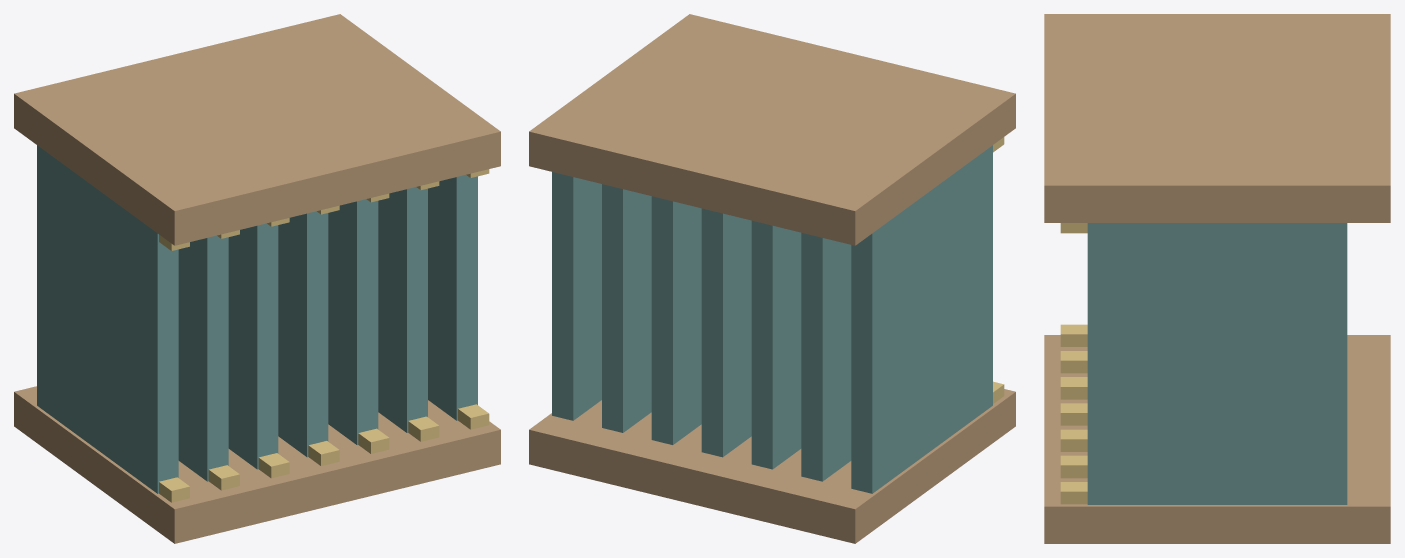
Rendered from WindBrakeGrille.glb.
3 renders of one model, left to right at view 1: azimuth 30°, elevation 25°; view 2: azimuth 150°, elevation 25°; view 3: azimuth 270°, elevation 25°, orthographic. The views are drawn at different scales.
Parts seen in each view (by area): view 1: WindBrakeGrille; view 2: WindBrakeGrille; view 3: WindBrakeGrille.
Boxes of the visible parts, x1=… form: WindBrakeGrille: x1=14, y1=14, x2=500, y2=543; WindBrakeGrille: x1=529, y1=14, x2=1015, y2=543; WindBrakeGrille: x1=1044, y1=14, x2=1390, y2=543.
Bounding box in the file's own units: 1.97 × 1.92 × 1.68.
